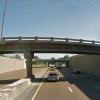Bridge: (6, 27, 97, 64)
